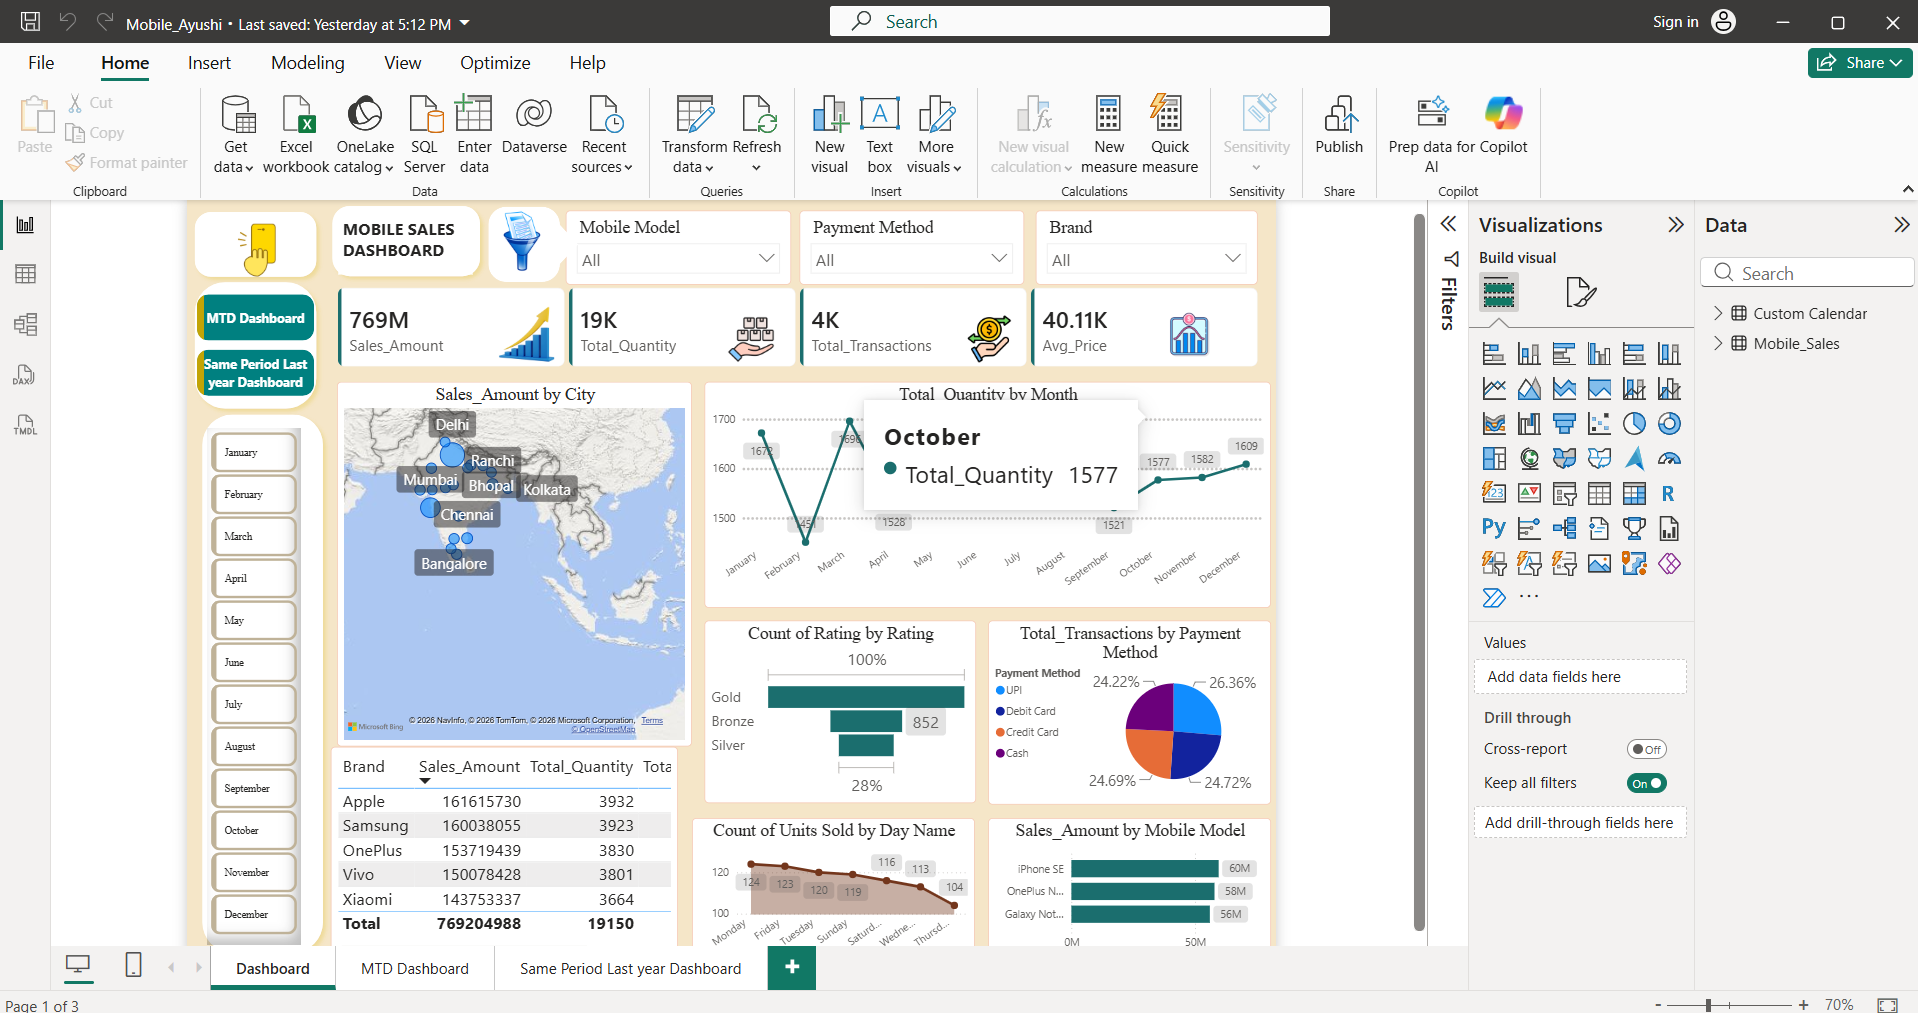

The dashboard page shown, as its layout file describes it:
{"tool":"powerbi","page":{"name":"Dashboard","canvas":[1245,872],"ordinal":0},"visuals":[{"type":"shape","box":[0,7.1,156.7,91.8],"z":0},{"type":"image","box":[0,0,142.6,98.8],"z":1000},{"type":"shape","box":[0,87.5,156.7,162.4],"z":2000},{"type":"shape","box":[8.6,238.6,155.7,632.9],"z":3000},{"type":"cardVisual","fields":{"Data":["Mobile_Sales.Sales_Amount","Mobile_Sales.Total_Quantity","Mobile_Sales.Total_Transactions","Mobile_Sales.Avg_Price"]},"box":[155.7,85.7,1088.6,124.3],"z":4000},{"type":"advancedSlicerVisual","fields":{"Values":["Custom Calendar.Date.Variation.Date Hierarchy.Month"]},"box":[23.3,263.3,108.3,590],"z":5000},{"type":"image","box":[343.8,115.6,88.8,77.5],"z":6000},{"type":"image","box":[608.8,135.3,71.9,52.1],"z":7000},{"type":"image","box":[875.1,133.9,81.7,53.5],"z":8000},{"type":"image","box":[1120.3,121.2,52.1,69.1],"z":9000},{"type":"slicer","fields":{"Values":["Mobile_Sales.Brand"]},"box":[969.5,14.1,253.7,84.6],"z":10000},{"type":"slicer","fields":{"Values":["Mobile_Sales.Payment Method"]},"box":[700.4,14.1,256.5,84.6],"z":11000},{"type":"slicer","fields":{"Values":["Mobile_Sales.Mobile Model"]},"box":[432.6,14.1,257.9,84.6],"z":12000},{"type":"shape","box":[344,10,82,86],"z":13000},{"type":"image","box":[339,10,87,76],"z":14000},{"type":"shape","box":[404,30,43,46],"z":15000},{"type":"shape","box":[156.7,0,186.7,98.3],"z":16000},{"type":"textbox","box":[173.3,16.7,153.3,70],"z":17000},{"type":"map","fields":{"Category":["Mobile_Sales.City"],"Size":["Mobile_Sales.Sales_Amount"]},"box":[171.4,210,405.7,417.1],"z":18000},{"type":"lineChart","fields":{"Y":["Mobile_Sales.Total_Quantity"],"Category":["Custom Calendar.Date.Variation.Date Hierarchy.Month"]},"box":[591.4,210,647.1,258.6],"z":19000},{"type":"funnel","fields":{"Category":["Mobile_Sales.Rating"],"Y":["CountNonNull(Mobile_Sales.Rating)"]},"box":[591.4,482.9,310,208.6],"z":20000},{"type":"pieChart","fields":{"Category":["Mobile_Sales.Payment Method"],"Y":["Mobile_Sales.Total_Transactions"]},"box":[915.7,482.9,322.9,210],"z":21000},{"type":"barChart","fields":{"Category":["Mobile_Sales.Mobile Model"],"Y":["Mobile_Sales.Sales_Amount"]},"box":[915,708.3,323.3,163.3],"z":22000},{"type":"areaChart","fields":{"Category":["Custom Calendar.Day Name"],"Y":["CountNonNull(Mobile_Sales.Units Sold)"]},"box":[576.7,708.3,323.3,163.3],"z":23000},{"type":"tableEx","fields":{"Values":["Mobile_Sales.Brand","Mobile_Sales.Sales_Amount","Mobile_Sales.Total_Quantity","Mobile_Sales.Total_Transactions"]},"box":[164.3,627.1,397.1,244.3],"z":24000},{"type":"pageNavigator","box":[11.4,110,134.3,117.1],"z":24001}]}

Visuals, with their boxes on the page's 1245x872 design canvas (x1, y1, x2, y2). These are canvas units, not pixel positions in the 1918x1013 screenshot, which may show the page scaled, cropped or inside an application window:
shape: BBox(0, 7, 157, 99)
image: BBox(0, 0, 143, 99)
shape: BBox(0, 88, 157, 250)
shape: BBox(9, 239, 164, 872)
cardVisual - Mobile_Sales.Sales_Amount x Mobile_Sales.Total_Quantity: BBox(156, 86, 1244, 210)
advancedSlicerVisual - Custom Calendar.Date.Variation.Date Hierarchy.Month: BBox(23, 263, 132, 853)
image: BBox(344, 116, 433, 193)
image: BBox(609, 135, 681, 187)
image: BBox(875, 134, 957, 187)
image: BBox(1120, 121, 1172, 190)
slicer - Mobile_Sales.Brand: BBox(970, 14, 1223, 99)
slicer - Mobile_Sales.Payment Method: BBox(700, 14, 957, 99)
slicer - Mobile_Sales.Mobile Model: BBox(433, 14, 690, 99)
shape: BBox(344, 10, 426, 96)
image: BBox(339, 10, 426, 86)
shape: BBox(404, 30, 447, 76)
shape: BBox(157, 0, 343, 98)
textbox: BBox(173, 17, 327, 87)
map - Mobile_Sales.City x Mobile_Sales.Sales_Amount: BBox(171, 210, 577, 627)
lineChart - Mobile_Sales.Total_Quantity x Custom Calendar.Date.Variation.Date Hierarchy.Month: BBox(591, 210, 1238, 469)
funnel - Mobile_Sales.Rating x CountNonNull(Mobile_Sales.Rating): BBox(591, 483, 901, 692)
pieChart - Mobile_Sales.Payment Method x Mobile_Sales.Total_Transactions: BBox(916, 483, 1239, 693)
barChart - Mobile_Sales.Mobile Model x Mobile_Sales.Sales_Amount: BBox(915, 708, 1238, 872)
areaChart - Custom Calendar.Day Name x CountNonNull(Mobile_Sales.Units Sold): BBox(577, 708, 900, 872)
tableEx - Mobile_Sales.Brand x Mobile_Sales.Sales_Amount: BBox(164, 627, 561, 871)
pageNavigator: BBox(11, 110, 146, 227)
